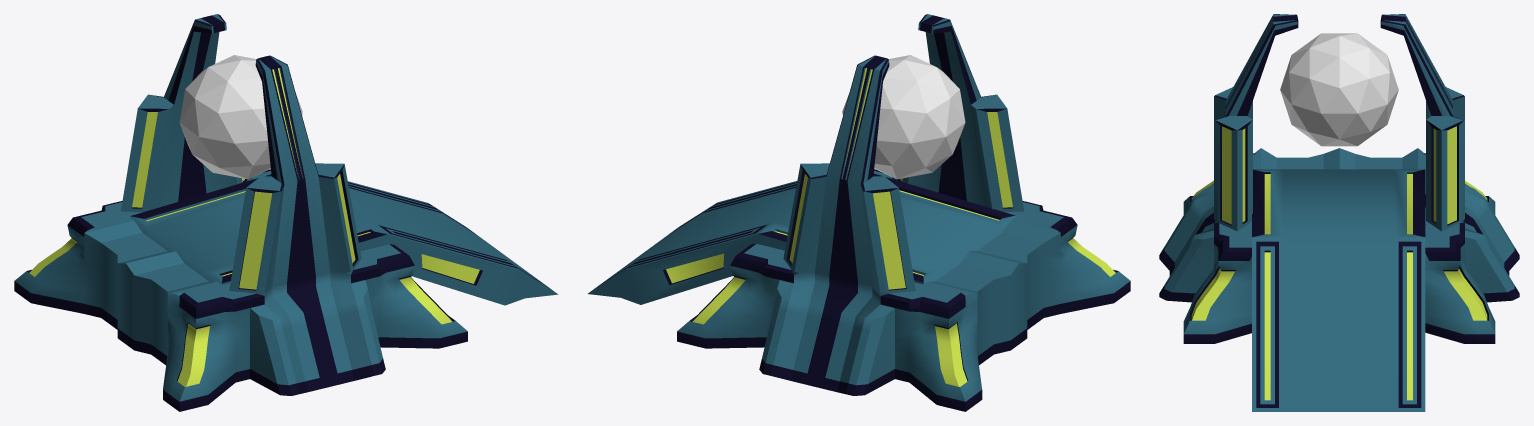
The model's file is PlayerCore.fbx.
3 views of the same model, side by side, from view 1: azimuth 30°, elevation 25°; view 2: azimuth 150°, elevation 25°; view 3: azimuth 270°, elevation 25° (orthographic). The views are drawn at different scales.
Parts seen in each view (by area): view 1: Central, Ramp, Core; view 2: Central, Ramp, Core; view 3: Ramp, Central, Core.
Boxes of the visible parts, x1,y1,x2,y2 form: Central: [14, 14, 467, 411]; Ramp: [130, 174, 558, 305]; Core: [179, 55, 302, 179]; Central: [677, 14, 1130, 411]; Ramp: [588, 173, 1015, 304]; Core: [842, 55, 965, 179]; Ramp: [1252, 169, 1425, 411]; Central: [1159, 14, 1519, 343]; Core: [1280, 33, 1398, 146].
Bounding box in the file's own units: 2906 × 1914 × 2319.
